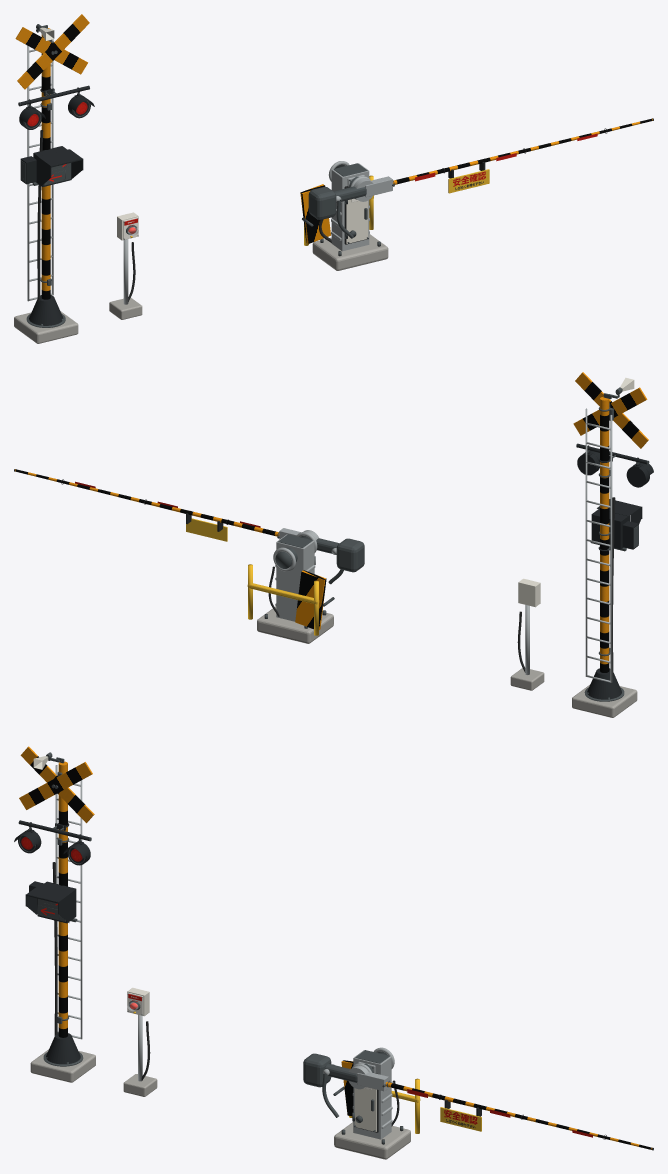
The model's file is jp_crossing_equipment.glb.
3 views of the same model, one above another, from view 1: azimuth 30°, elevation 25°; view 2: azimuth 150°, elevation 25°; view 3: azimuth 330°, elevation 25° (orthographic).
Visible parts, largest first — view 1: Warning_Pole_Textured, Gate_Foundation, Warning_Crossbuck_Textured_B, Gate_SC_CastBody, Warning_Foundation, Gate_Arm_Textured, Warning_Crossbuck_Textured_A, Gate_ServiceDoor, Gate_Counterweight, Gate_Counter_TexturedGuard, Warning_FlaredBase, Gate_LowerWarningPlacard (+4 smaller); view 2: Warning_Pole_Textured, Gate_SC_CastBody, Gate_Foundation, Gate_Arm_Textured, Gate_Counter_TexturedGuard, Warning_Foundation, Warning_Crossbuck_Textured_B, Warning_Crossbuck_Textured_A, Gate_Counterweight, Warning_LadderRail, Warning_LadderRail.001, Warning_FlaredBase (+4 smaller); view 3: Warning_Pole_Textured, Gate_Foundation, Gate_SC_CastBody, Warning_Crossbuck_Textured_B, Warning_Foundation, Gate_Arm_Textured, Warning_Crossbuck_Textured_A, Gate_ServiceDoor, Warning_FlaredBase, Gate_Counterweight, Warning_LadderRail.001.
Part boxes in pixels (<box>): Warning_Pole_Textured: <box>41,28,50,299</box>; Gate_Foundation: <box>312,234,388,270</box>; Warning_Crossbuck_Textured_B: <box>17,14,89,89</box>; Gate_SC_CastBody: <box>331,163,369,251</box>; Warning_Foundation: <box>14,311,78,343</box>; Gate_Arm_Textured: <box>393,118,652,184</box>; Warning_Crossbuck_Textured_A: <box>15,27,87,74</box>; Gate_ServiceDoor: <box>346,199,368,243</box>; Gate_Counterweight: <box>308,186,336,219</box>; Gate_Counter_TexturedGuard: <box>300,184,330,243</box>; Warning_FlaredBase: <box>29,295,63,325</box>; Gate_LowerWarningPlacard: <box>448,169,489,193</box>; Warning_Pole_Textured: <box>600,396,609,672</box>; Gate_SC_CastBody: <box>276,534,314,621</box>; Gate_Foundation: <box>257,606,333,643</box>; Gate_Arm_Textured: <box>15,469,279,536</box>; Gate_Counter_TexturedGuard: <box>295,570,326,629</box>; Warning_Foundation: <box>572,684,637,717</box>; Warning_Crossbuck_Textured_B: <box>575,372,648,448</box>; Warning_Crossbuck_Textured_A: <box>573,387,647,435</box>; Gate_Counterweight: <box>336,538,364,572</box>; Warning_LadderRail: <box>610,414,612,682</box>; Warning_LadderRail.001: <box>585,408,587,676</box>; Warning_FlaredBase: <box>587,668,621,699</box>; Warning_Pole_Textured: <box>58,761,67,1037</box>; Gate_Foundation: <box>334,1122,410,1159</box>; Gate_SC_CastBody: <box>353,1050,391,1139</box>; Warning_Crossbuck_Textured_B: <box>19,762,92,809</box>; Warning_Foundation: <box>30,1049,95,1082</box>; Gate_Arm_Textured: <box>385,1082,651,1149</box>; Warning_Crossbuck_Textured_A: <box>20,746,94,823</box>; Gate_ServiceDoor: <box>354,1088,376,1131</box>; Warning_FlaredBase: <box>46,1033,80,1064</box>; Gate_Counterweight: <box>303,1053,331,1087</box>; Warning_LadderRail.001: <box>80,780,82,1039</box>.
Size of the model in its own units: 9.31 by 4.45 by 0.8655.
Materials: 15 (4 with a texture image).
